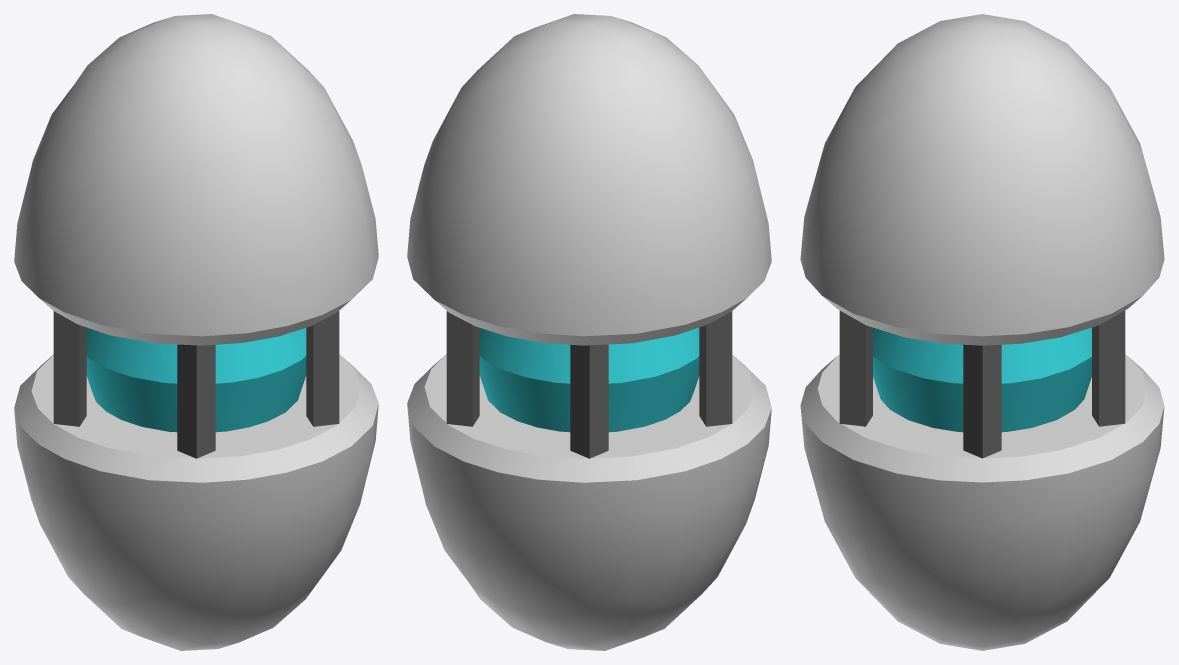
Rendered from SpaceCapsule.fbx.
The picture shows the model from 3 angles, left to right: view 1: azimuth 30°, elevation 25°; view 2: azimuth 150°, elevation 25°; view 3: azimuth 270°, elevation 25°; orthographic projection.
Visible parts, largest first — view 1: SpaceCapsule; view 2: SpaceCapsule; view 3: SpaceCapsule.
Boxes of the visible parts, x1,y1,x2,y2 form: SpaceCapsule: (14,14,378,650); SpaceCapsule: (407,14,771,650); SpaceCapsule: (800,14,1164,650).
Bounding box in the file's own units: 12.22 × 22.76 × 12.22.
